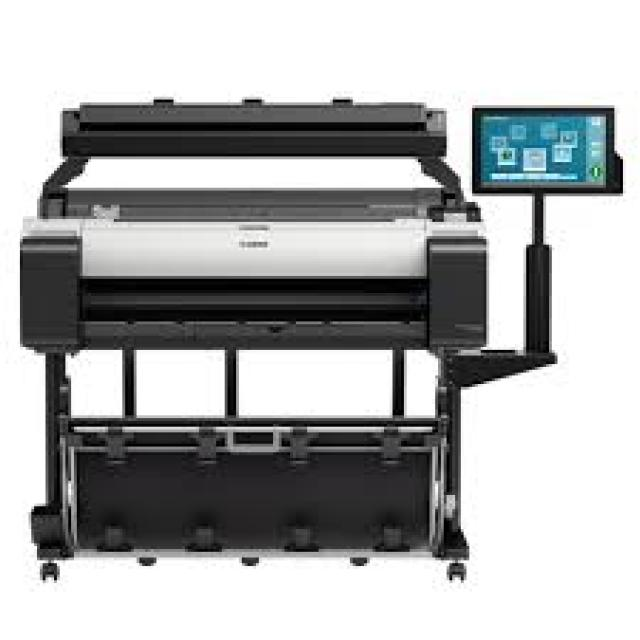printer: (14, 94, 623, 583)
